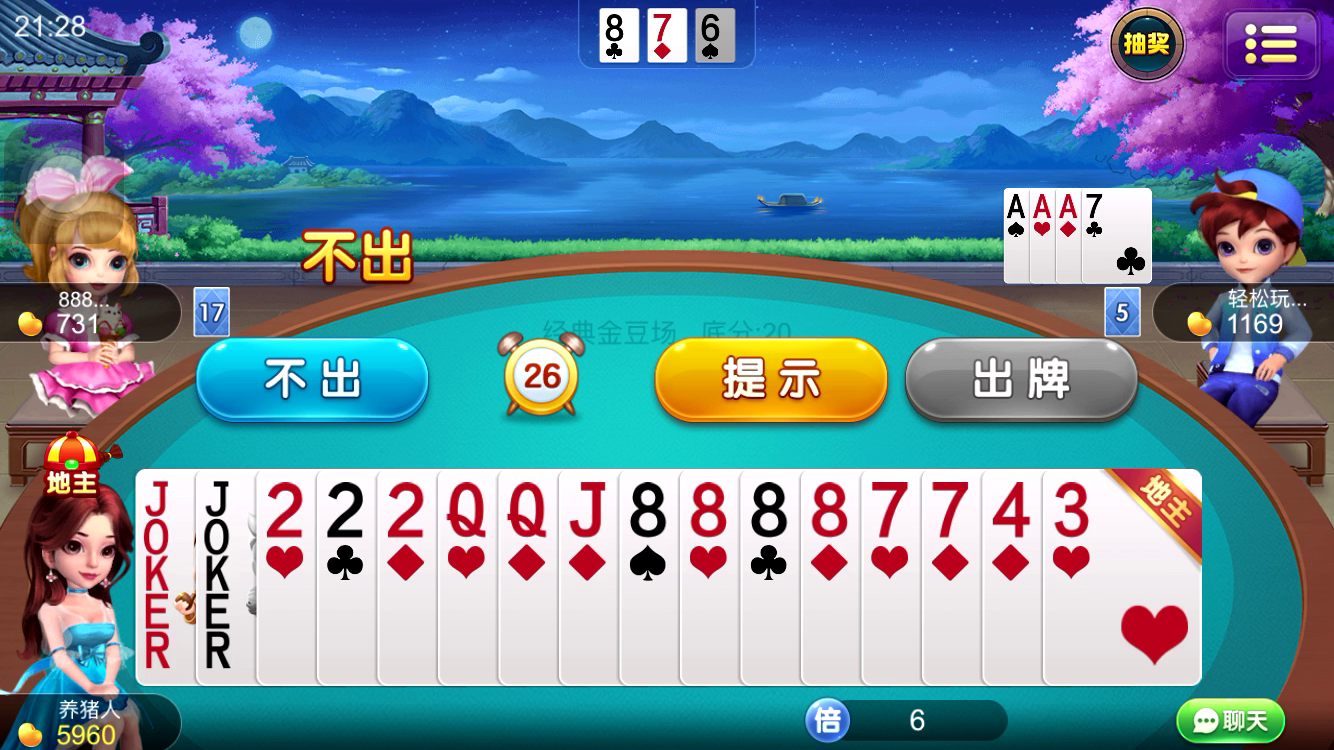A: (1030, 191, 1054, 223), (1055, 191, 1080, 221), (1004, 191, 1029, 221)
J: (562, 474, 613, 542)
JOKER: (136, 476, 181, 600)
Q: (500, 477, 554, 545), (440, 478, 492, 543)
eight: (622, 476, 676, 544), (804, 477, 856, 544), (745, 477, 796, 545), (684, 481, 734, 543), (601, 5, 632, 42)
four: (984, 477, 1038, 544)
joker: (197, 476, 239, 600)
seven: (863, 475, 915, 542), (925, 474, 976, 542), (646, 10, 679, 40), (1083, 191, 1108, 222)
six: (696, 9, 729, 42)
three: (1046, 476, 1102, 542)
two: (380, 476, 433, 543), (320, 476, 371, 544), (260, 478, 310, 543)
